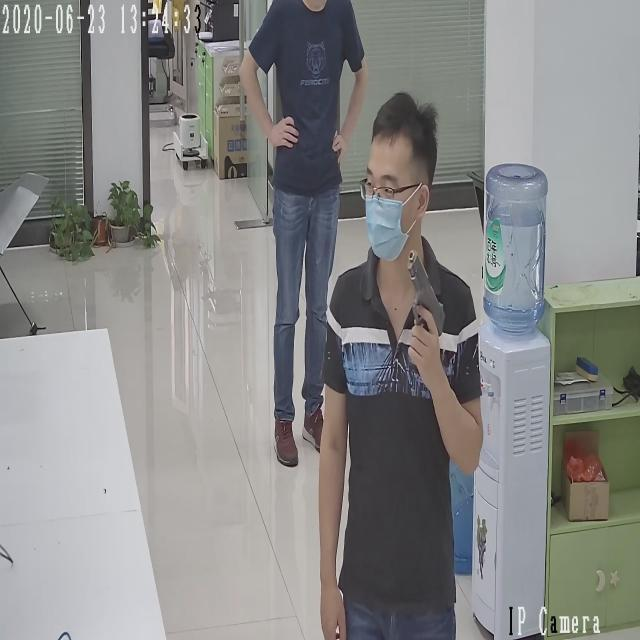gun-knife-thesis - v11 Yolov5 augmented: (403, 246, 449, 379)
